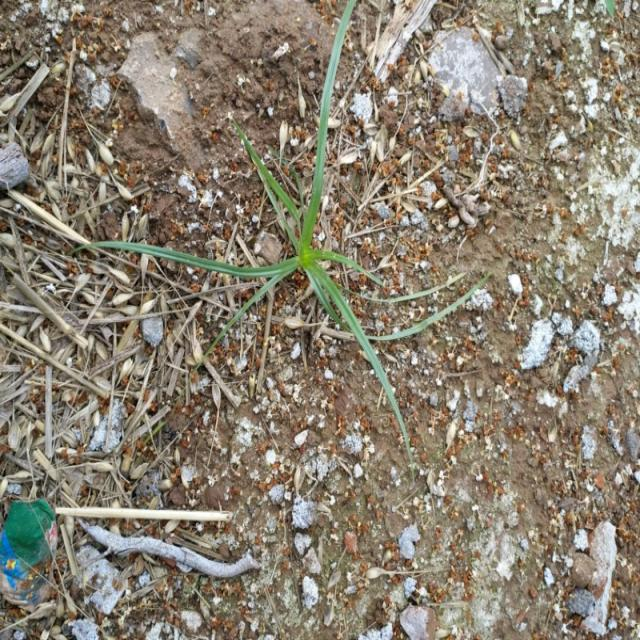sedge: (100, 54, 430, 459)
